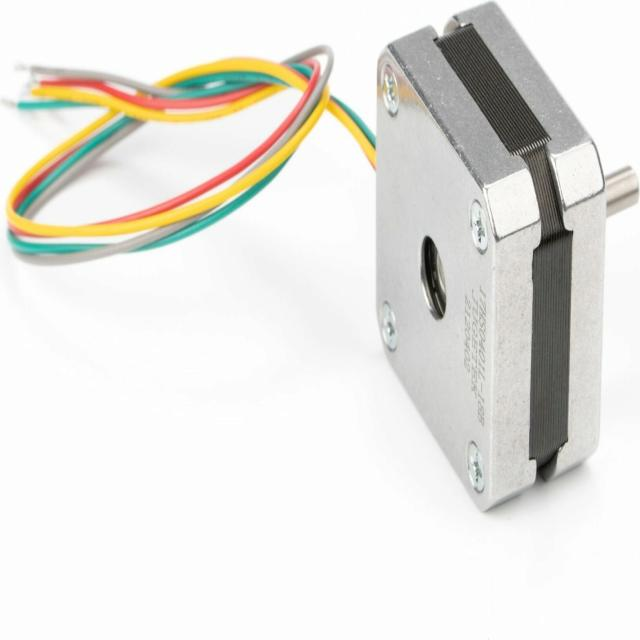motor: (377, 3, 629, 507)
